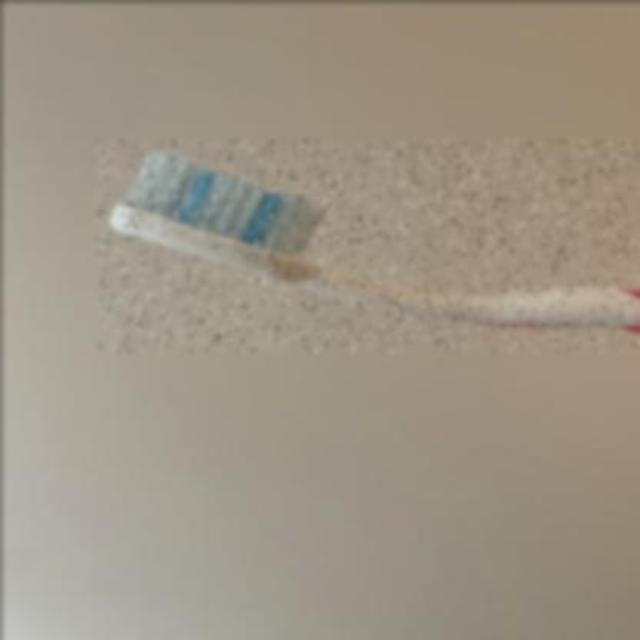toothbrush: (96, 139, 640, 351)
